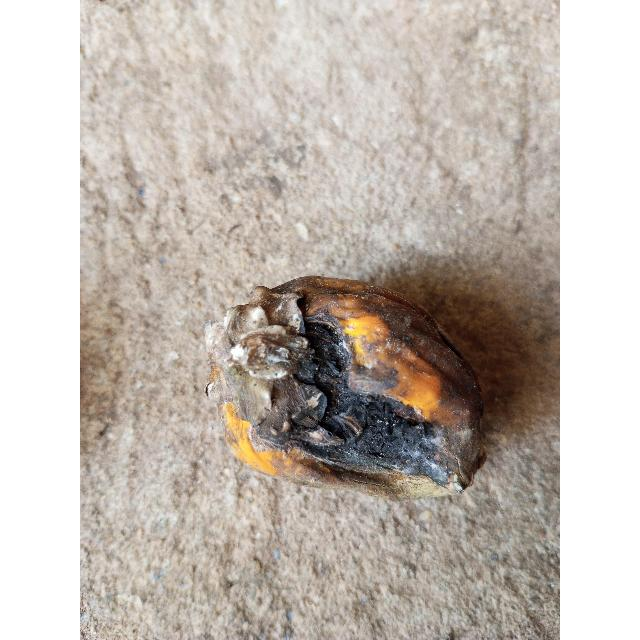damaged: (212, 276, 489, 499)
